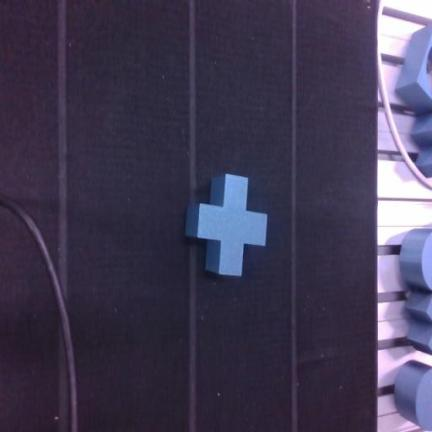cross: (186, 174, 267, 275)
